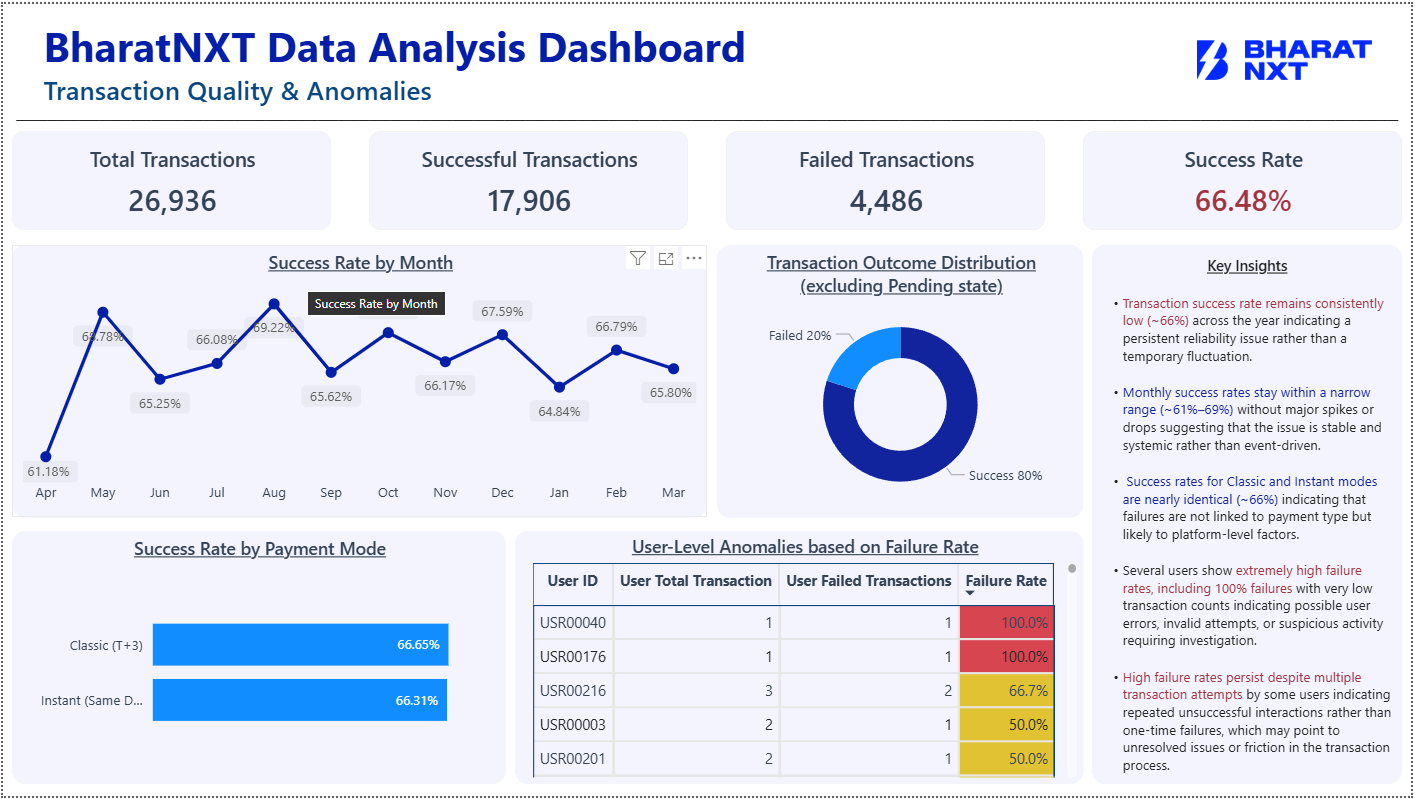

The page's visual inventory and layout, read from the dashboard file:
{"tool":"powerbi","page":{"name":"Transaction Quality & Anomalies","canvas":[1280,720],"ordinal":4},"visuals":[{"type":"textbox","box":[32,7,656,62],"z":0},{"type":"cardVisual","fields":{"Data":["Measures Table.Total Transactions"]},"box":[8,115,290,90],"z":1000},{"type":"cardVisual","fields":{"Data":["Measures Table.Total Successful Transactions"]},"box":[332.7,115,290,90],"z":2000},{"type":"cardVisual","fields":{"Data":["Measures Table.Total Failed Transactions"]},"box":[657.3,115,290,90],"z":3000},{"type":"textbox","box":[32,56,367,46],"z":4000},{"type":"textbox","box":[0,91,1280,27],"z":5000},{"type":"cardVisual","fields":{"Data":["Measures Table.Success Rate"]},"box":[982,115,290,90],"z":6000},{"type":"lineChart","fields":{"Category":["Custom_Calendar.Month"],"Y":["Measures Table.Success Rate"]},"box":[7.8,218.9,632.2,247.8],"z":7000},{"type":"clusteredBarChart","title":"Success Rate by Payment Mode","fields":{"Category":["Transaction MIS copy.Payment Mode"],"Y":["Measures Table.Success Rate"]},"box":[7.8,478.9,448.9,230],"z":8000},{"type":"donutChart","title":"Transaction Outcome Distribution (excluding Pending state)","fields":{"Category":["Transaction MIS copy.Transaction Status"],"Y":["Measures Table.Total Transactions"]},"box":[648.9,218.9,333.3,247.8],"z":9000},{"type":"tableEx","title":"User-Level Anomalies based on Failure Rate","fields":{"Values":["User MIS copy.User ID","Measures Table.User Total Transaction","Measures Table.Total Failed Transactions per User","Measures Table.Failure Rate per User"]},"box":[465.6,478.9,516.7,230],"z":10000},{"type":"textbox","box":[990,218.9,282.2,490],"z":11000},{"type":"image","box":[1085,0,159,102],"z":12000}]}

Visuals, with their boxes in screenshot pixels (x1, y1, x2, y2), scaled from the page's 1280x720 canvas onto the 1415x799 screenshot:
textbox: locate(35, 8, 761, 77)
cardVisual - Measures Table.Total Transactions: locate(9, 128, 329, 227)
cardVisual - Measures Table.Total Successful Transactions: locate(368, 128, 688, 227)
cardVisual - Measures Table.Total Failed Transactions: locate(727, 128, 1047, 227)
textbox: locate(35, 62, 441, 113)
textbox: locate(0, 101, 1414, 131)
cardVisual - Measures Table.Success Rate: locate(1086, 128, 1406, 227)
lineChart - Custom_Calendar.Month x Measures Table.Success Rate: locate(9, 243, 708, 518)
"Success Rate by Payment Mode" clusteredBarChart: locate(9, 531, 505, 787)
"Transaction Outcome Distribution (excluding Pending state)" donutChart: locate(717, 243, 1086, 518)
"User-Level Anomalies based on Failure Rate" tableEx: locate(515, 531, 1086, 787)
textbox: locate(1094, 243, 1406, 787)
image: locate(1199, 0, 1375, 113)
